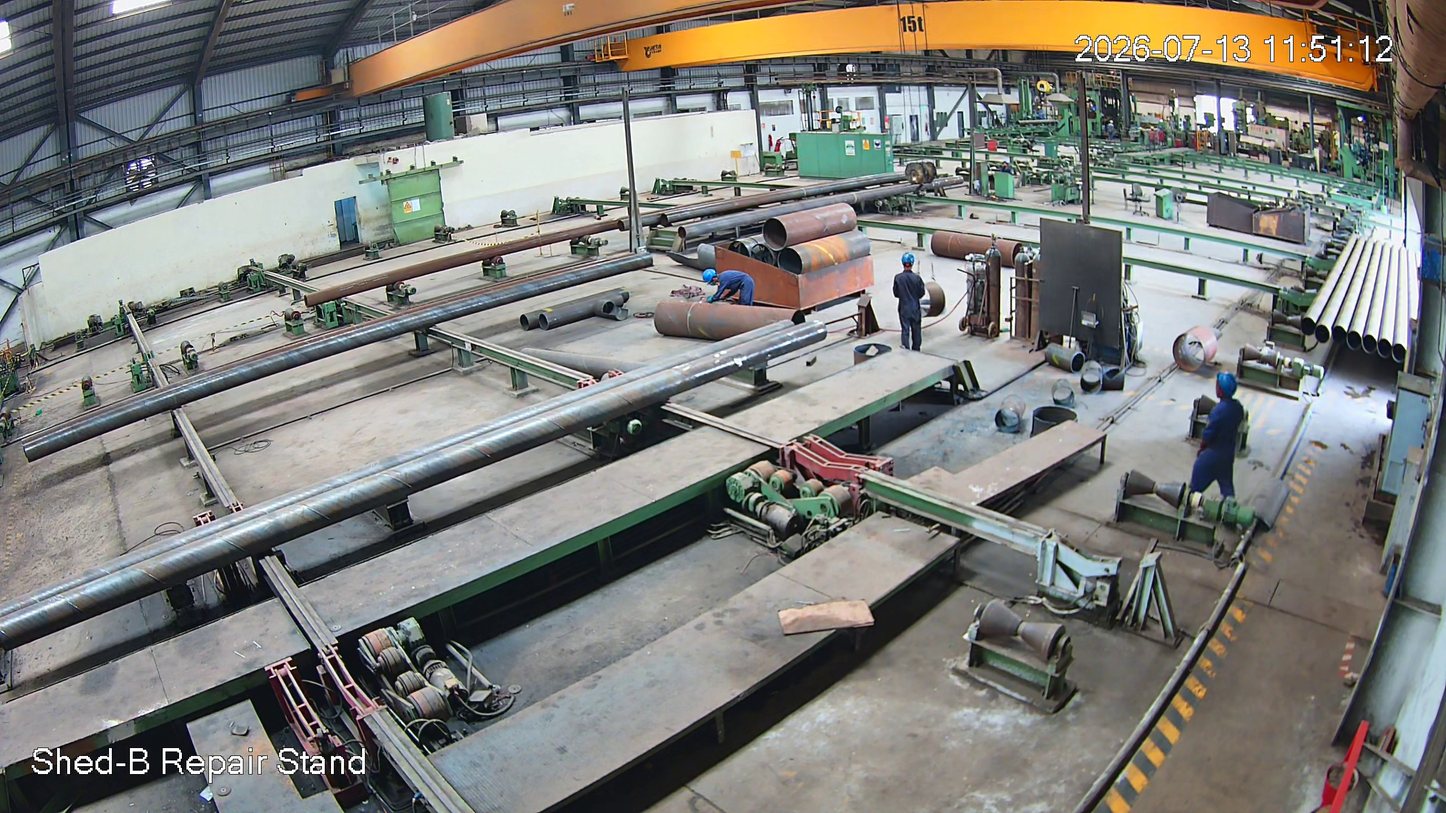Helmet: (1214, 373, 1245, 407), (696, 268, 725, 290), (899, 252, 915, 275)
Person: (1199, 375, 1239, 503), (891, 256, 928, 347), (700, 269, 765, 311)
